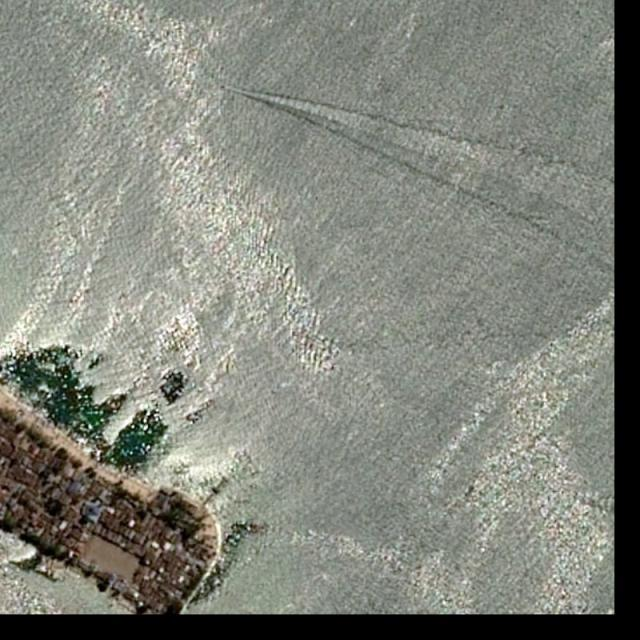ship: (218, 85, 226, 90)
